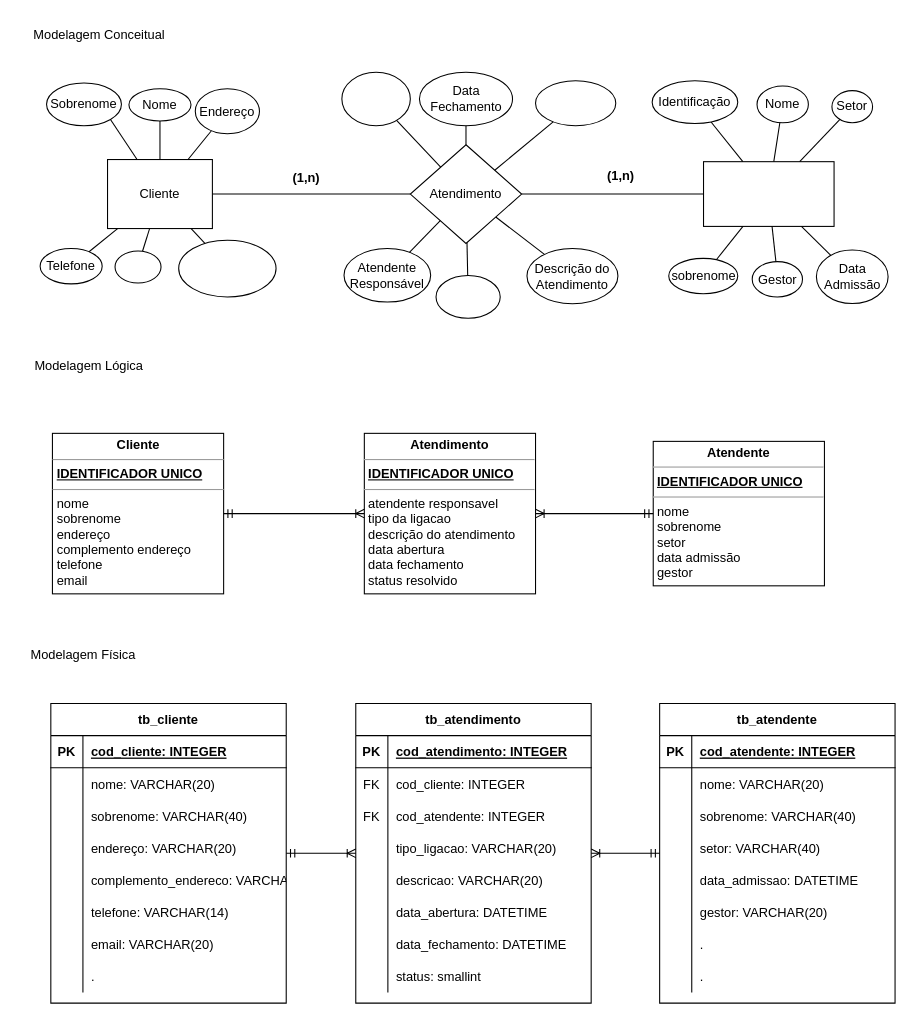
Some shapes in this 914 by 1022 pixel diagram are drawn without their labels. The centre of each missing label's shape, as x and y in pixels:
"Atendente" goes at pixel 768 193.
"Complemento Endereço" goes at pixel 227 268.
"Data Abertura" goes at pixel 375 98.
"Email" goes at pixel 137 266.
"Status Resolvido" goes at pixel 575 103.
"Tipo da Ligação" goes at pixel 467 296.
